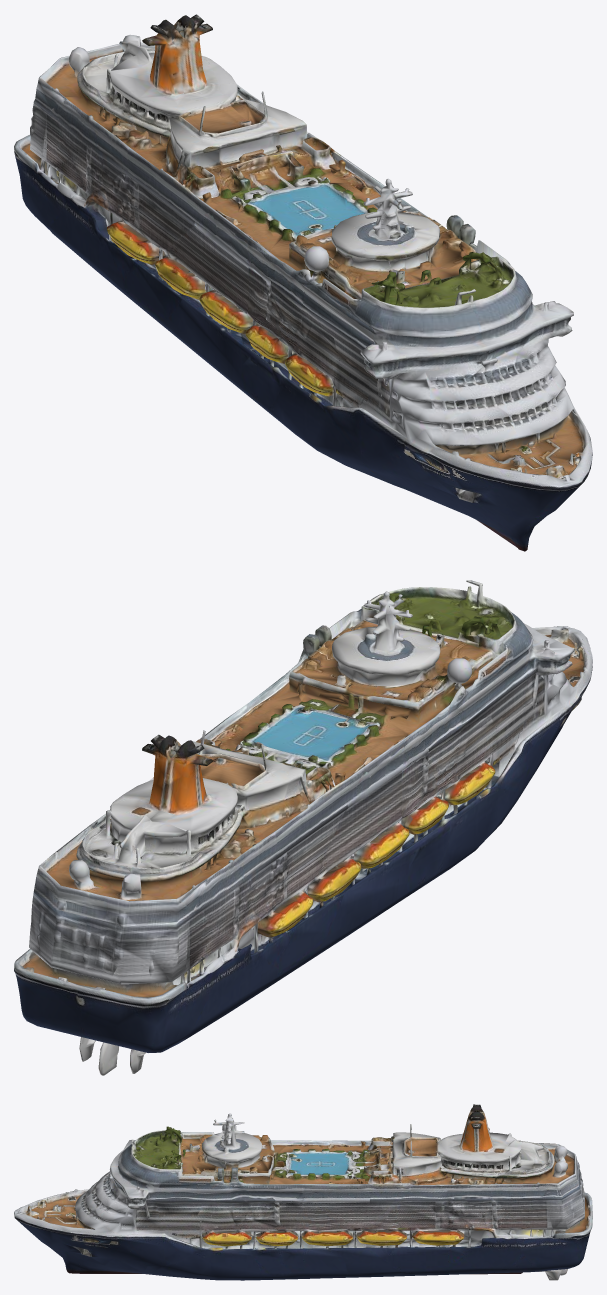
The model's file is cruise.glb.
The picture shows the model from 3 angles, top to bottom: view 1: azimuth 30°, elevation 25°; view 2: azimuth 150°, elevation 25°; view 3: azimuth 270°, elevation 25°; orthographic projection. The views are drawn at different scales.
Parts seen in each view (by area): view 1: tripo_node_1fd3a27d-0209-4eb7-bb32-5aa6b3dcd747; view 2: tripo_node_1fd3a27d-0209-4eb7-bb32-5aa6b3dcd747; view 3: tripo_node_1fd3a27d-0209-4eb7-bb32-5aa6b3dcd747.
Boxes of the visible parts, x1,y1,x2,y2 form: tripo_node_1fd3a27d-0209-4eb7-bb32-5aa6b3dcd747: (14, 14, 592, 551); tripo_node_1fd3a27d-0209-4eb7-bb32-5aa6b3dcd747: (14, 580, 592, 1075); tripo_node_1fd3a27d-0209-4eb7-bb32-5aa6b3dcd747: (14, 1104, 592, 1280).
Bounding box in the file's own units: 0.237 × 0.3162 × 0.9995.
Materials: 1 (1 with a texture image).
